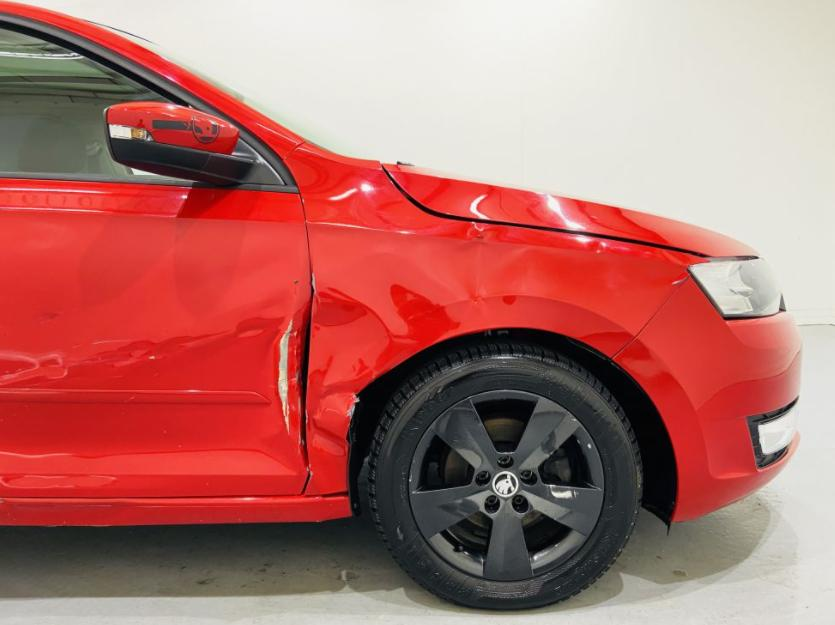Fender: (288, 146, 710, 494)
Front-bumper: (610, 277, 803, 528)
Front-door: (1, 13, 311, 495)
Front-wheel: (359, 344, 645, 611)
Front-window: (0, 22, 221, 187)
Headlight: (687, 258, 788, 320)
Hood: (377, 160, 762, 262)
Mirror: (103, 99, 284, 189)
Rocker-panel: (0, 493, 354, 527)
Windshield: (69, 15, 355, 160)
